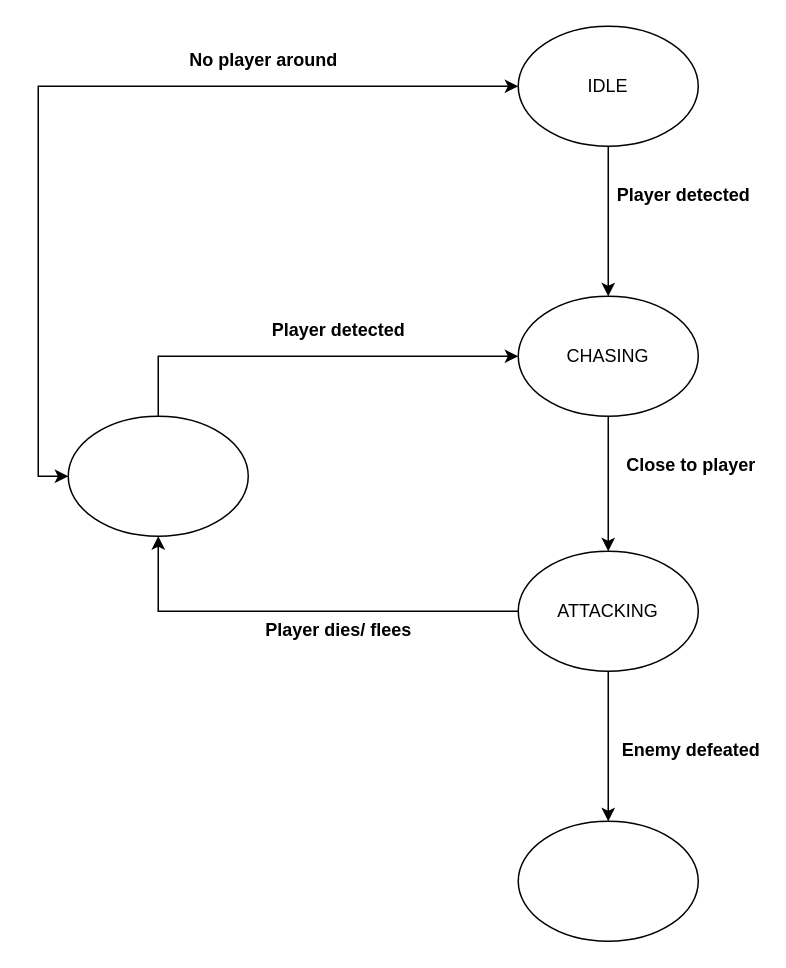
The diagram is 786 pixels wide and 968 high, and some of its shapes have lost their labels. Each missing label, with the centre of its shape:
DEAD: (x=607, y=880)
ROAMING: (x=157, y=475)
